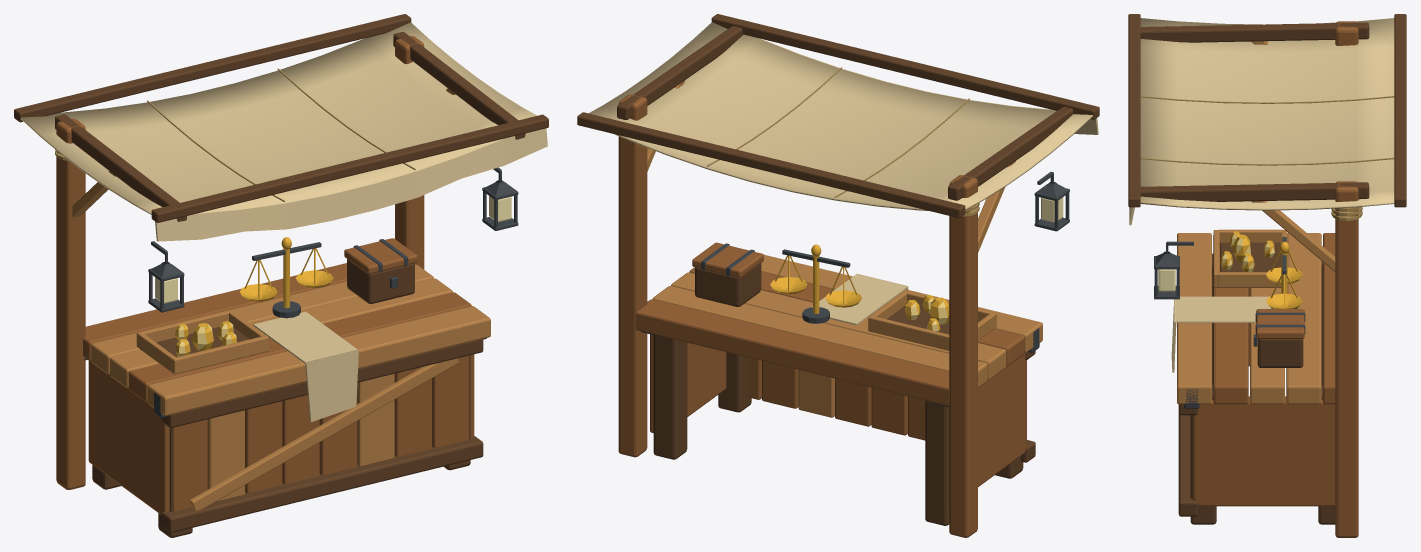
The model's file is MarketStall.fbx.
3 views of the same model, side by side, from view 1: azimuth 30°, elevation 25°; view 2: azimuth 150°, elevation 25°; view 3: azimuth 270°, elevation 25° (orthographic). The views are drawn at different scales.
Visible parts, largest first — view 1: MarketStall_Mesh, Market small balance scale_Mesh, Market hanging lantern -1_Mesh, Market hanging lantern 1_Mesh; view 2: MarketStall_Mesh, Market small balance scale_Mesh, Market hanging lantern -1_Mesh; view 3: MarketStall_Mesh, Market hanging lantern 1_Mesh, Market small balance scale_Mesh, Scale shallow pan.001_Mesh, Scale shallow pan_Mesh.
Part boxes in pixels (x1,y1,x2,y2): MarketStall_Mesh: (14, 14, 548, 537); Market small balance scale_Mesh: (244, 237, 328, 318); Market hanging lantern -1_Mesh: (148, 241, 184, 312); Market hanging lantern 1_Mesh: (482, 167, 518, 230); MarketStall_Mesh: (577, 14, 1099, 537); Market small balance scale_Mesh: (775, 244, 857, 323); Market hanging lantern -1_Mesh: (1034, 171, 1069, 231); MarketStall_Mesh: (1128, 14, 1406, 537); Market hanging lantern 1_Mesh: (1154, 241, 1193, 299); Market small balance scale_Mesh: (1270, 237, 1298, 308); Scale shallow pan.001_Mesh: (1266, 293, 1302, 308); Scale shallow pan_Mesh: (1266, 267, 1302, 283).
Size of the model in its own units: 3.36 by 2.96 by 2.13.
